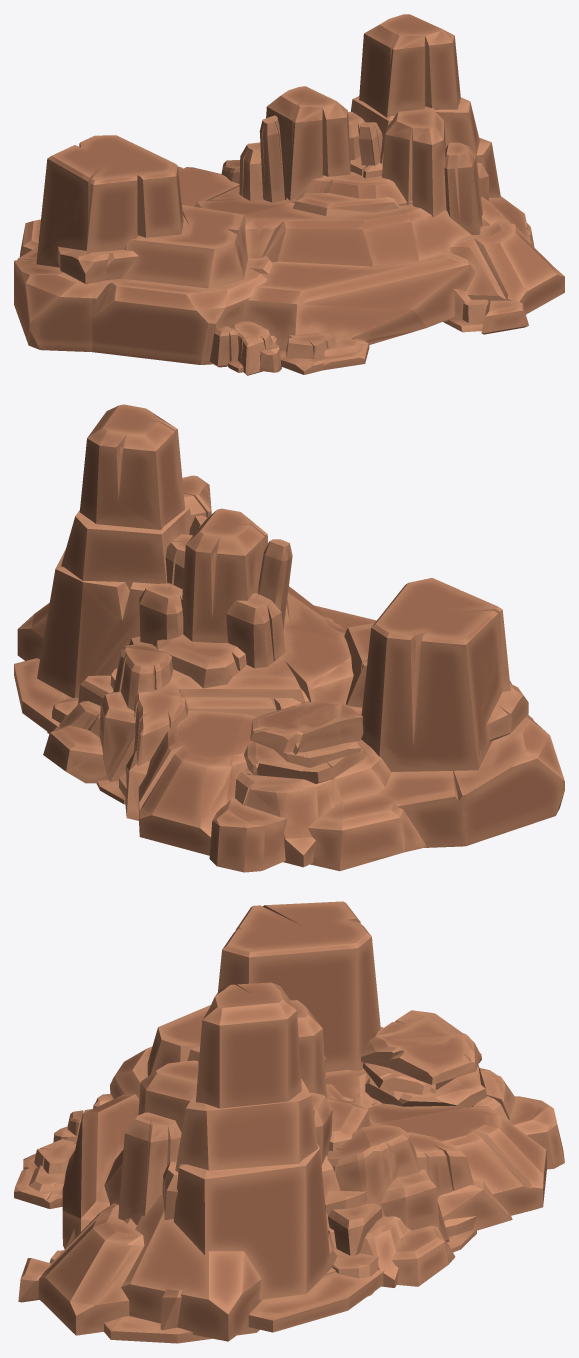
Rendered from big_rock_02.glb.
3 renders of one model, top to bottom at view 1: azimuth 30°, elevation 25°; view 2: azimuth 150°, elevation 25°; view 3: azimuth 270°, elevation 25°, orthographic. The views are drawn at different scales.
Visible parts, largest first — view 1: Cube.013_Big_rock_1_0; view 2: Cube.013_Big_rock_1_0; view 3: Cube.013_Big_rock_1_0.
Boxes of the visible parts, x1,y1,x2,y2 form: Cube.013_Big_rock_1_0: (14, 14, 564, 375); Cube.013_Big_rock_1_0: (14, 404, 564, 872); Cube.013_Big_rock_1_0: (14, 901, 564, 1343).
Bounding box in the file's own units: 25.98 × 12.83 × 21.08.
1 material, 1 textured.
